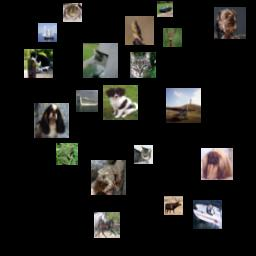airplane: (166, 88, 201, 123)
automobile: (157, 1, 173, 17)
bird: (125, 16, 154, 45)
cat: (83, 43, 118, 78), (24, 49, 53, 78), (130, 52, 156, 78), (134, 145, 153, 164)
deer: (164, 196, 183, 215), (163, 28, 182, 47)
dog: (34, 103, 69, 138), (103, 85, 138, 120), (201, 148, 233, 180), (214, 7, 246, 39)
frog: (91, 160, 126, 195), (56, 143, 78, 165), (63, 3, 82, 22)
ship: (193, 200, 222, 229), (76, 90, 98, 112), (38, 23, 57, 42)
